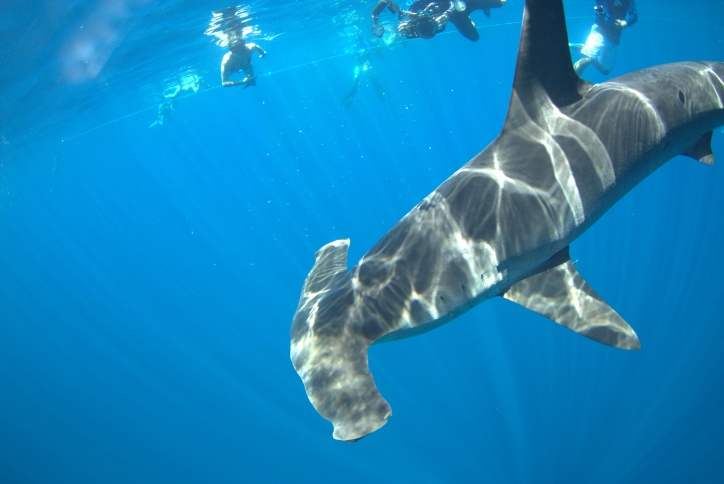Hammer: (282, 4, 724, 462)
